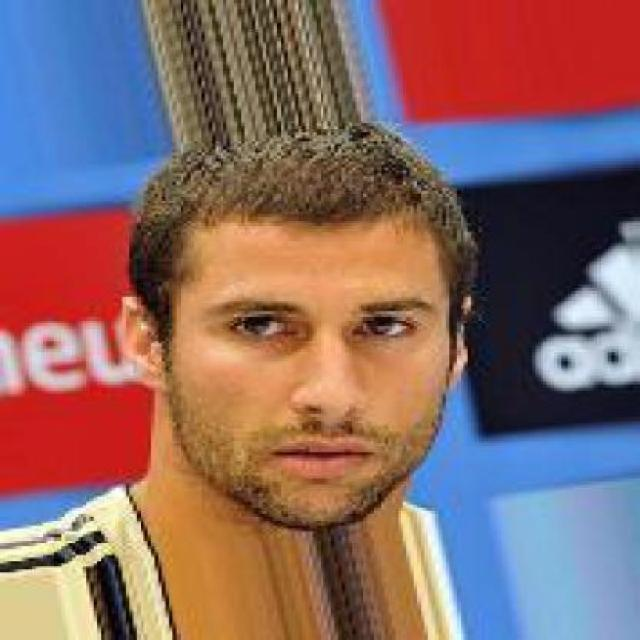closed-mouth: (276, 432, 372, 480)
